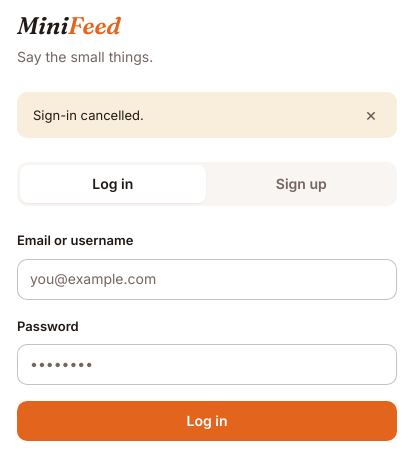
Test case: OAuth callback handling › shows a friendly banner for ?error=denied and cleans the URL on dismiss
The image size is (414, 458).
Expected: the text "Sign-in cancelled." is shown, 33,105 -> 144,125
What coordinates should you click on to do the following:
click the button named "Dismiss"
I would click on:
 (371, 115)
Its box is 361,104 -> 381,126.
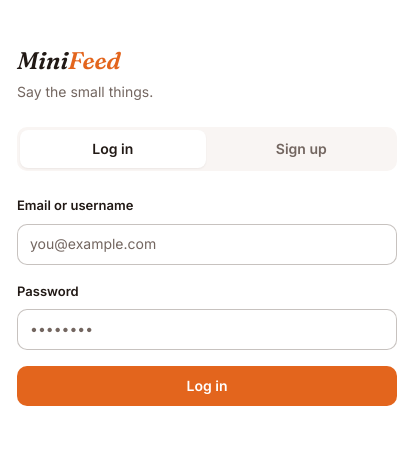
Expected: the text "Sign-in cancelled." is gone
